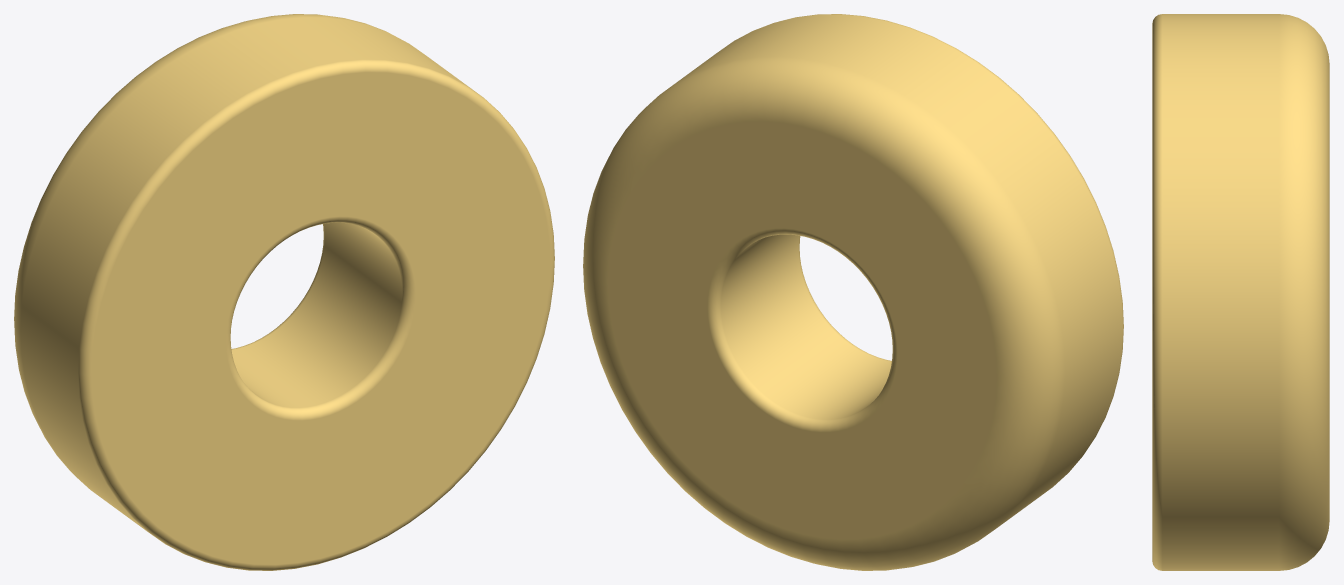
File: part 7 bushing 2 shaft fixture.fbx
3 views of the same model, side by side, from view 1: azimuth 30°, elevation 25°; view 2: azimuth 150°, elevation 25°; view 3: azimuth 270°, elevation 25° (orthographic).
Parts seen in each view (by area): view 1: Default; view 2: Default; view 3: Default.
Boxes of the visible parts, bbox=[...] form: Default: bbox=[14, 14, 554, 570]; Default: bbox=[583, 14, 1123, 570]; Default: bbox=[1152, 14, 1329, 570].
Bounding box in the file's own units: 2.45 × 2.45 × 0.7788.
